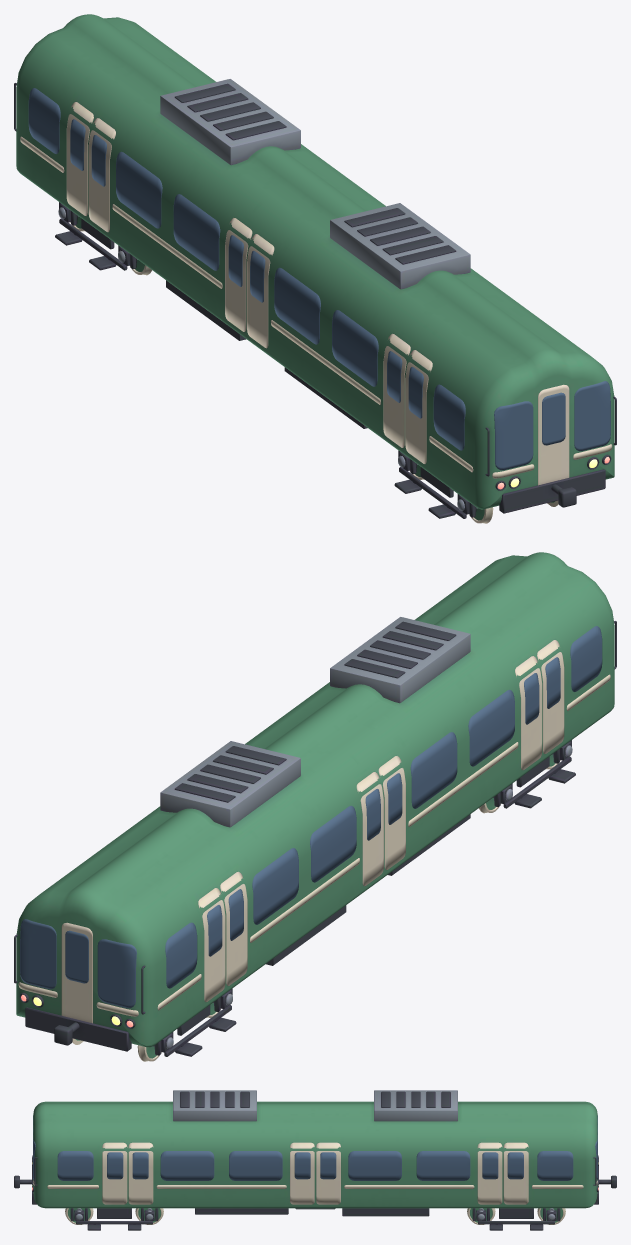
File: subway-train.glb
3 renders of one model, top to bottom at view 1: azimuth 30°, elevation 25°; view 2: azimuth 150°, elevation 25°; view 3: azimuth 270°, elevation 25°, orthographic. The views are drawn at different scales.
Parts seen in each view (by area): view 1: subway-train_body, subway-train_window_glass; view 2: subway-train_body, subway-train_window_glass; view 3: subway-train_body, subway-train_window_glass.
Part boxes in pixels (x1=…): subway-train_body: x1=14, y1=14, x2=616, y2=523; subway-train_window_glass: x1=28, y1=88, x2=610, y2=470; subway-train_body: x1=14, y1=552, x2=616, y2=1061; subway-train_window_glass: x1=20, y1=626, x2=602, y2=1008; subway-train_body: x1=14, y1=1090, x2=616, y2=1230; subway-train_window_glass: x1=33, y1=1115, x2=597, y2=1180.
Size of the model in its own units: 2.83 by 3.77 by 18.
4 materials, 1 textured.
